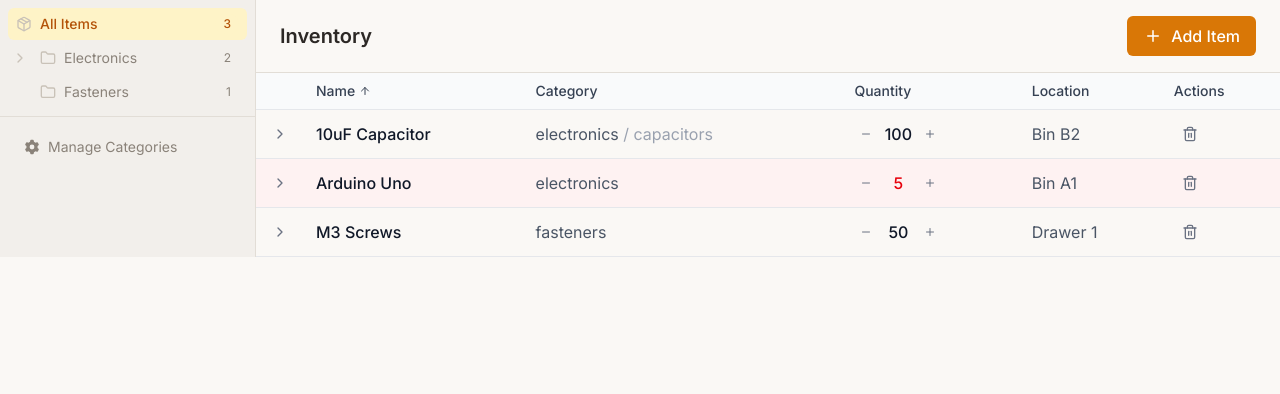
Test: InventoryView › manage categories › should toggle category management panel
// Click manage categories
Click the button "Manage Categories". click: coordinates (128, 147)
box: [12, 129, 243, 165]
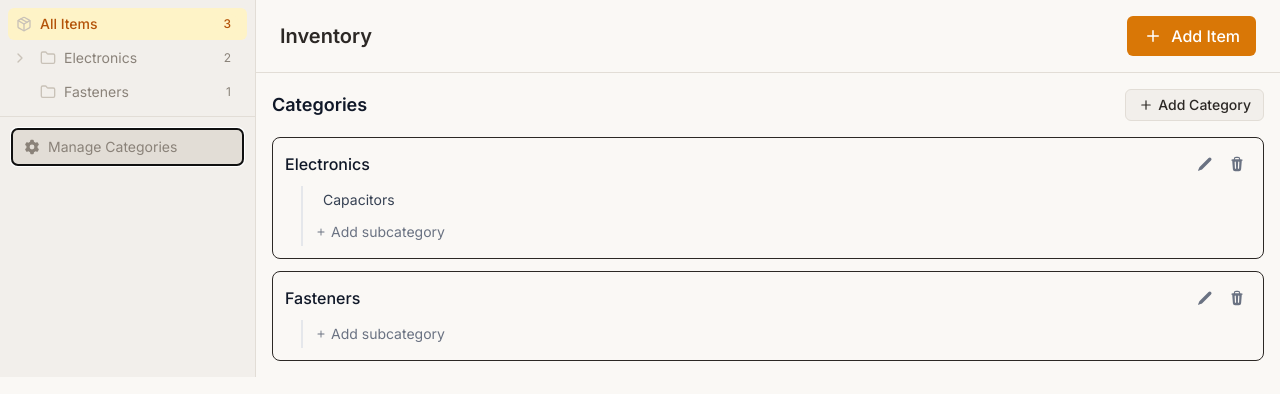
Expected: the button "Add Category" is shown, [1125, 89, 1264, 121]
